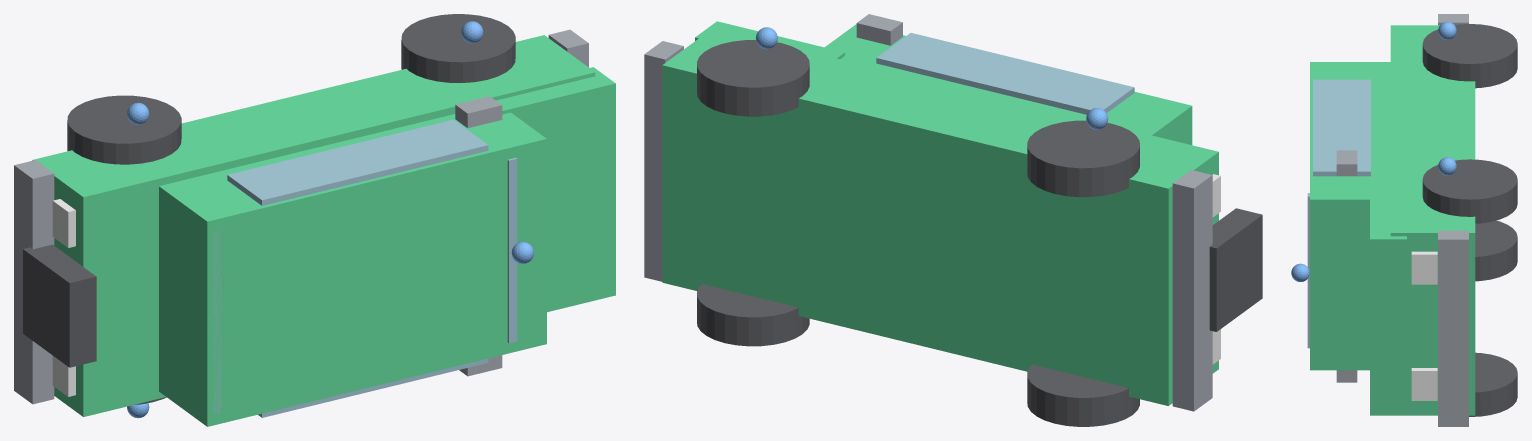
The model's file is bakkie_suv_inspection.glb.
3 views of the same model, side by side, from view 1: azimuth 30°, elevation 25°; view 2: azimuth 150°, elevation 25°; view 3: azimuth 270°, elevation 25° (orthographic). The views are drawn at different scales.
Visible parts, largest first — view 1: EXT_cabin, EXT_body, EXT_bonnet, EXT_left_window, EXT_spare_wheel, EXT_wheel_rear_left, EXT_wheel_front_left, EXT_rear_bumper, EXT_windscreen, EXT_right_window, EXT_mirror_left, EXT_rear_window (+3 smaller); view 2: EXT_body, EXT_rear_bumper, EXT_left_window, EXT_wheel_rear_left, EXT_wheel_front_left, EXT_spare_wheel, EXT_cabin, EXT_wheel_front_right, EXT_wheel_rear_right, EXT_front_bumper, EXT_mirror_left, EXT_bonnet; view 3: EXT_body, EXT_cabin, EXT_bonnet, EXT_front_bumper, EXT_left_window, EXT_wheel_front_left, EXT_wheel_rear_left, EXT_wheel_front_right, EXT_wheel_rear_right, EXT_headlight_left, EXT_headlight_right, EXT_mirror_left (+6 smaller).
Part boxes in pixels (bbox=[...]): EXT_cabin: bbox=[159, 112, 546, 426]; EXT_body: bbox=[32, 35, 595, 416]; EXT_bonnet: bbox=[496, 67, 615, 312]; EXT_left_window: bbox=[227, 119, 488, 205]; EXT_spare_wheel: bbox=[23, 244, 96, 367]; EXT_wheel_rear_left: bbox=[67, 95, 181, 164]; EXT_wheel_front_left: bbox=[401, 14, 515, 82]; EXT_rear_bumper: bbox=[14, 160, 54, 404]; EXT_windscreen: bbox=[507, 158, 517, 343]; EXT_right_window: bbox=[258, 358, 488, 417]; EXT_mirror_left: bbox=[455, 96, 502, 128]; EXT_rear_window: bbox=[213, 230, 221, 413]; EXT_body: bbox=[662, 28, 1218, 405]; EXT_rear_bumper: bbox=[1172, 170, 1212, 411]; EXT_left_window: bbox=[876, 33, 1134, 114]; EXT_wheel_rear_left: bbox=[1027, 120, 1139, 197]; EXT_wheel_front_left: bbox=[697, 40, 809, 116]; EXT_spare_wheel: bbox=[1209, 208, 1262, 331]; EXT_cabin: bbox=[824, 24, 1192, 144]; EXT_wheel_front_right: bbox=[697, 284, 809, 346]; EXT_wheel_rear_right: bbox=[1027, 364, 1139, 426]; EXT_front_bumper: bbox=[644, 41, 683, 281]; EXT_mirror_left: bbox=[856, 14, 902, 45]; EXT_bonnet: bbox=[695, 21, 844, 59]; EXT_body: bbox=[1390, 25, 1475, 415]; EXT_cabin: bbox=[1310, 62, 1390, 370]; EXT_bonnet: bbox=[1370, 187, 1406, 415]; EXT_front_bumper: bbox=[1438, 230, 1468, 426]; EXT_left_window: bbox=[1313, 79, 1370, 176]; EXT_wheel_front_left: bbox=[1422, 159, 1517, 223]; EXT_wheel_rear_left: bbox=[1422, 24, 1517, 88]; EXT_wheel_front_right: bbox=[1469, 352, 1517, 416]; EXT_wheel_rear_right: bbox=[1475, 220, 1517, 281]; EXT_headlight_left: bbox=[1411, 251, 1437, 284]; EXT_headlight_right: bbox=[1411, 368, 1437, 400]; EXT_mirror_left: bbox=[1336, 150, 1357, 176].
Bounding box in the file's own units: 5.22 × 2.78 × 2.19.
